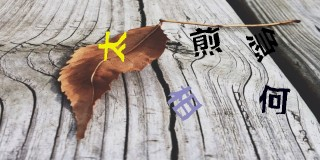何: (259, 84, 291, 116)
太: (98, 31, 127, 61)
急: (246, 26, 279, 64)
煎: (190, 26, 223, 58)
相: (165, 83, 202, 121)
